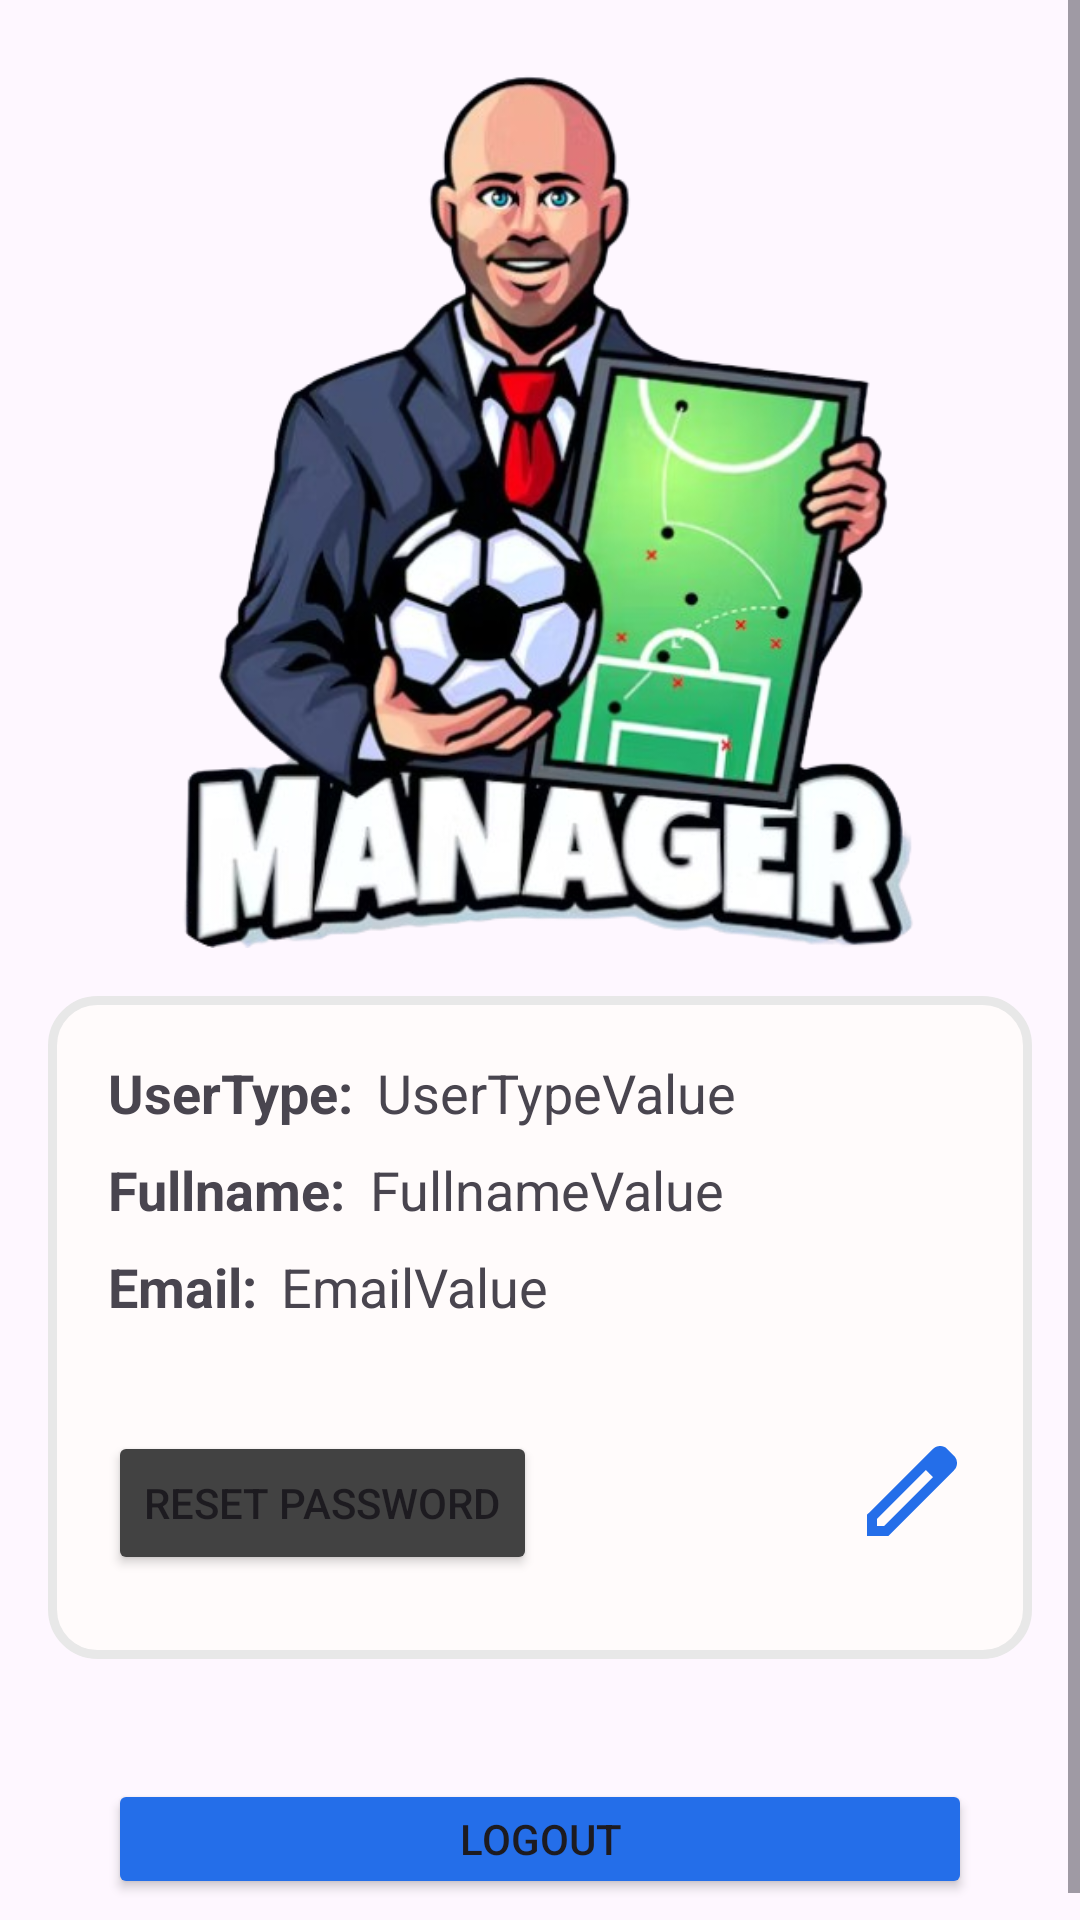

Locate icon controls on the screen. Image size 1080×1920, boxes as [x1, y1, x2, y2].
edit: [867, 1446, 957, 1536]
